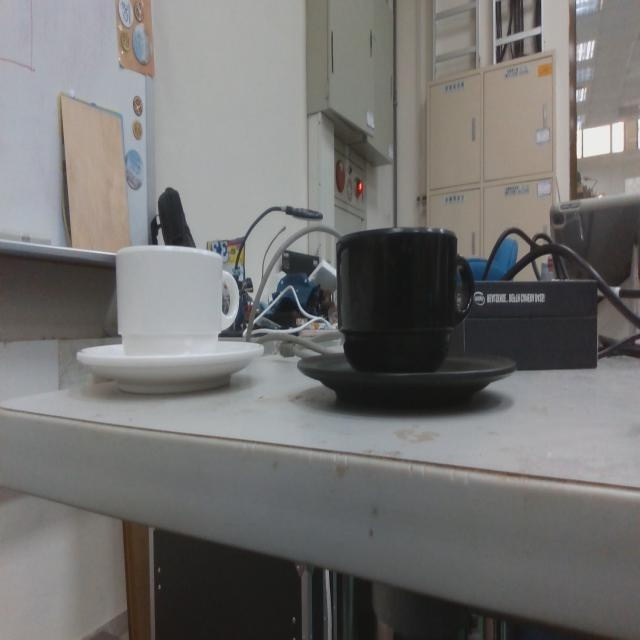black: (295, 222, 519, 416)
white: (75, 240, 267, 396)
